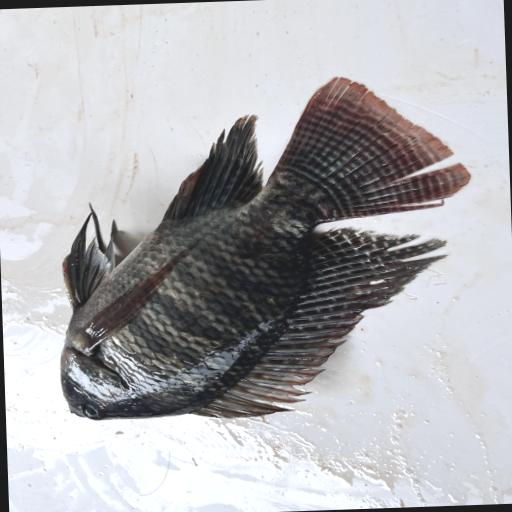Tilapia: (49, 72, 479, 425)
